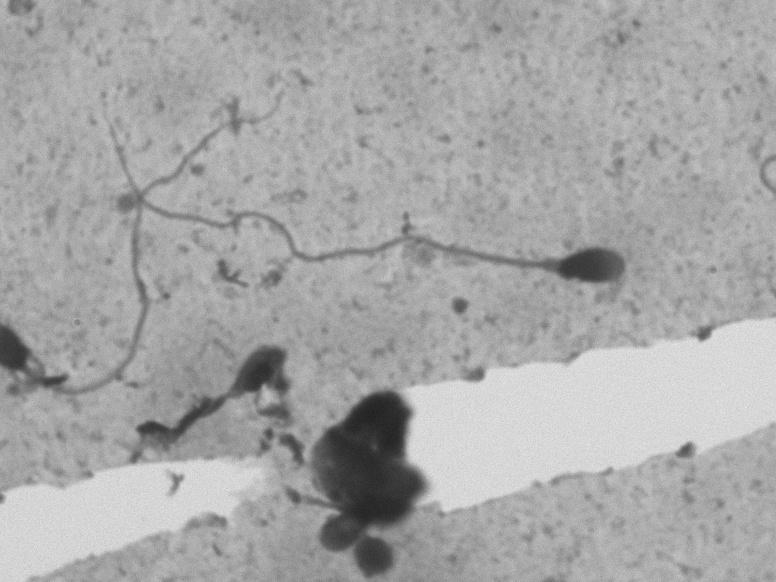Normal: (63, 97, 686, 296)
